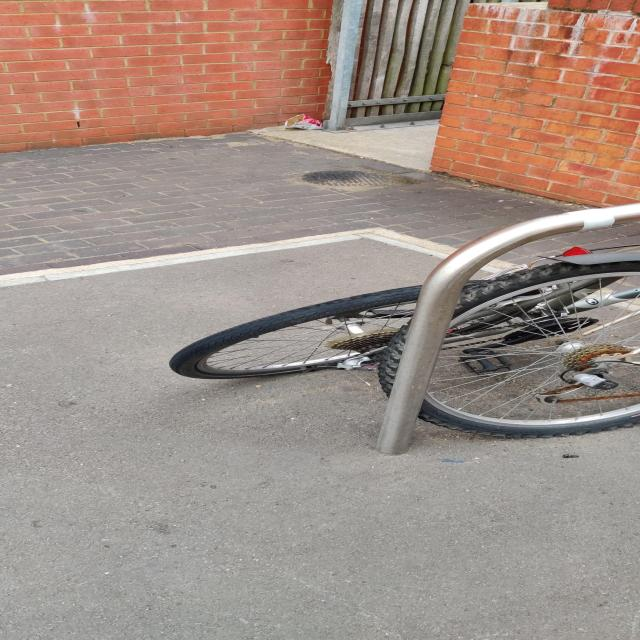litter: (280, 110, 331, 129)
